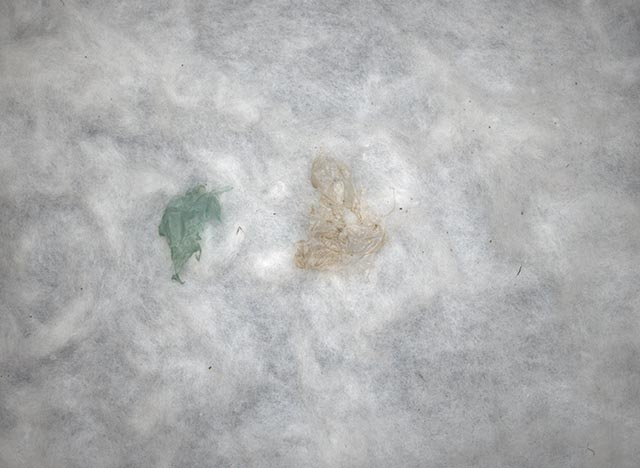plastic film: (294, 149, 395, 275), (156, 178, 233, 287)
